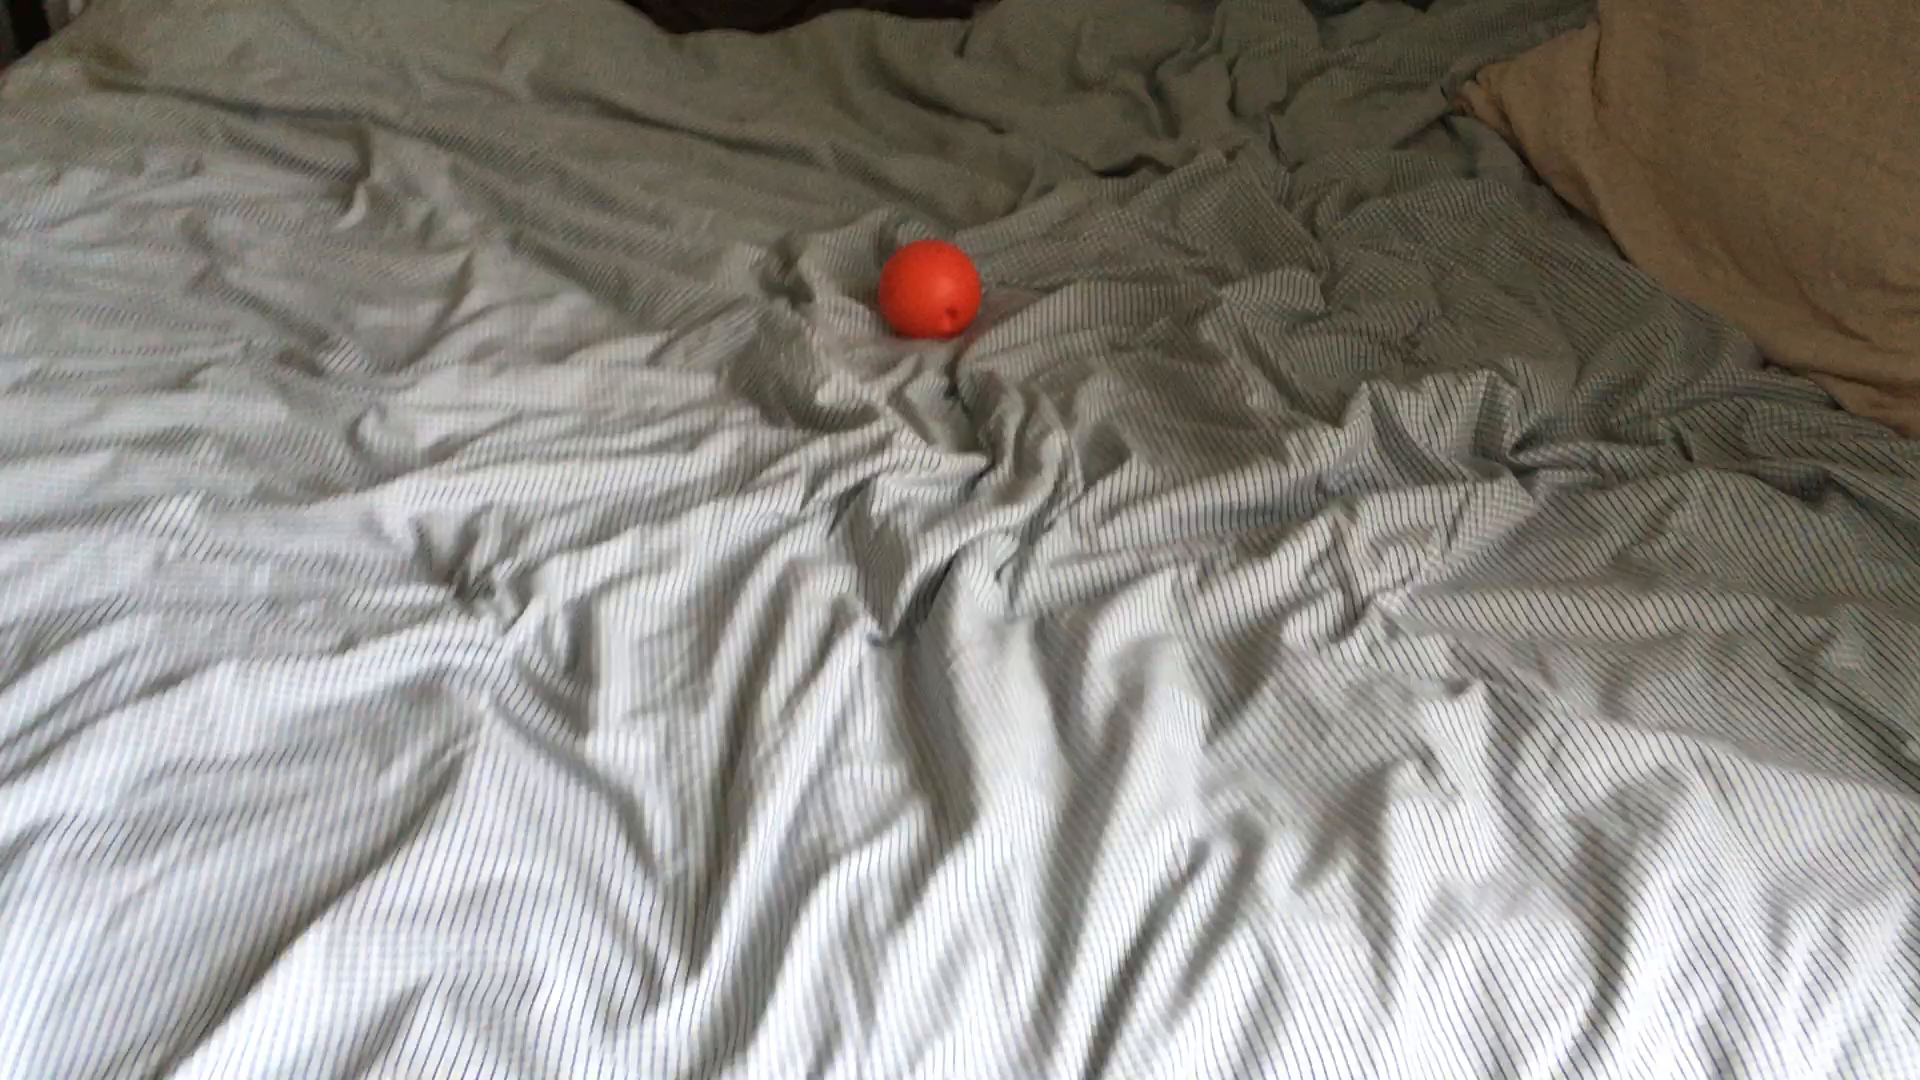Ball: (881, 237, 978, 336)
